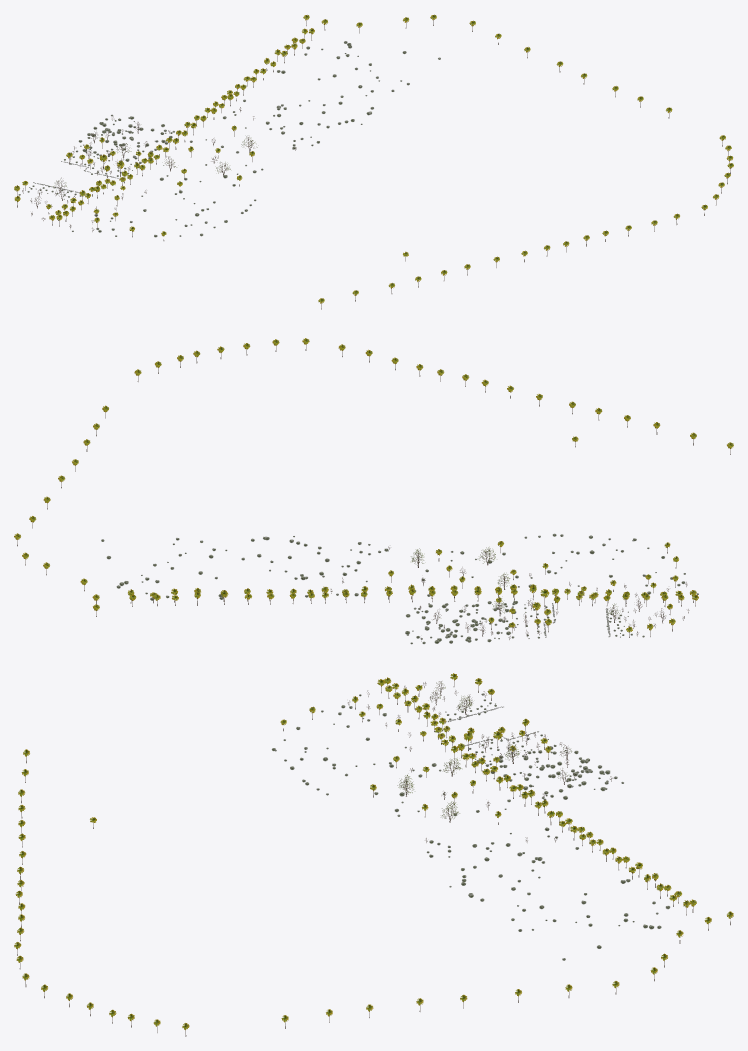
Rendered from The_Winslow_mini_env.glb.
The picture shows the model from 3 angles, top to bottom: view 1: azimuth 30°, elevation 25°; view 2: azimuth 150°, elevation 25°; view 3: azimuth 270°, elevation 25°; orthographic projection. The views are drawn at different scales.
Visible parts, largest first — view 1: plants_location; view 2: plants_location; view 3: plants_location.
Part boxes in pixels (left/top/right/bottom): plants_location: left=14, top=14, right=733, bottom=309; plants_location: left=14, top=338, right=733, bottom=644; plants_location: left=14, top=673, right=733, bottom=1036.
Bounding box in the file's own units: 856 × 26.96 × 742.
8 materials, 8 textured.
